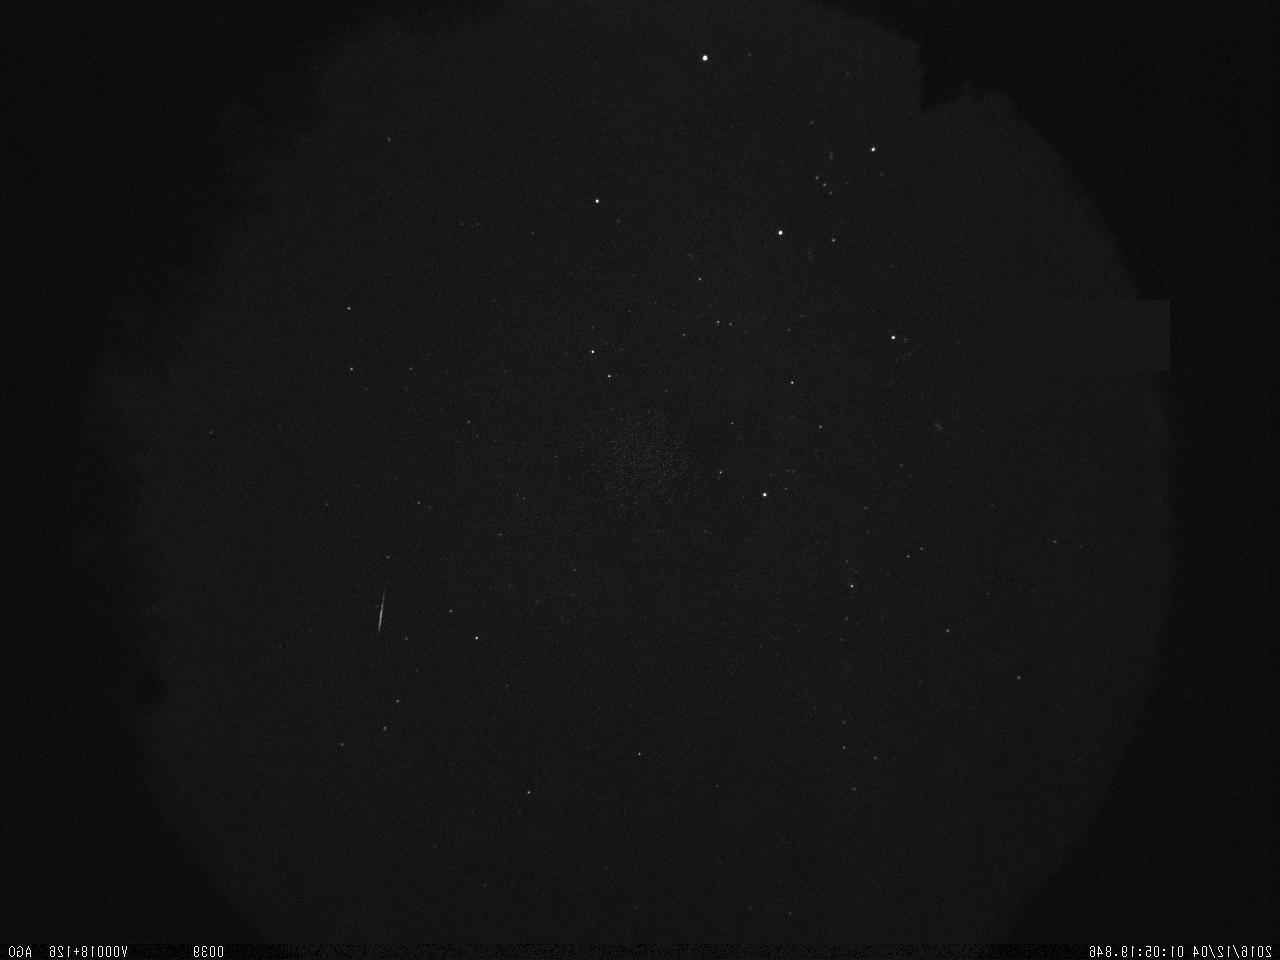meteor: (366, 576, 397, 645)
